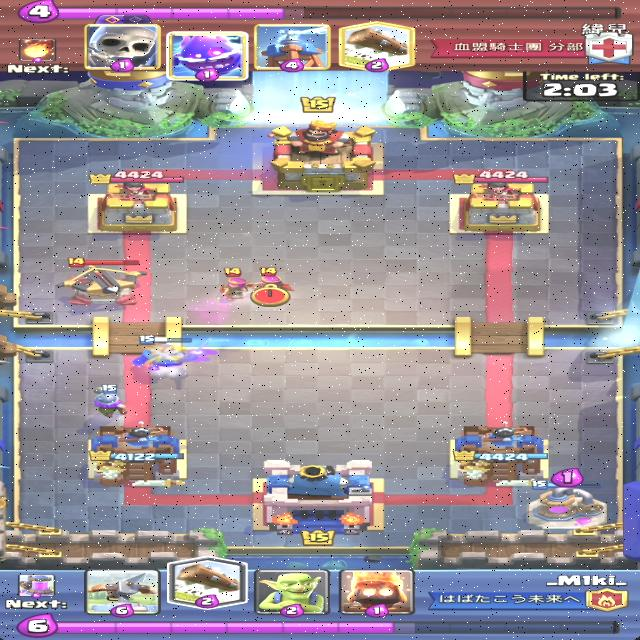Enemy-Archer: (250, 267, 296, 302), (218, 266, 255, 302)
Enemy-XBow: (56, 257, 150, 307)
Player-ElixirPump: (526, 479, 610, 531)
Player-Knight: (132, 334, 215, 372)
Player-Musketeer: (92, 383, 129, 418)
